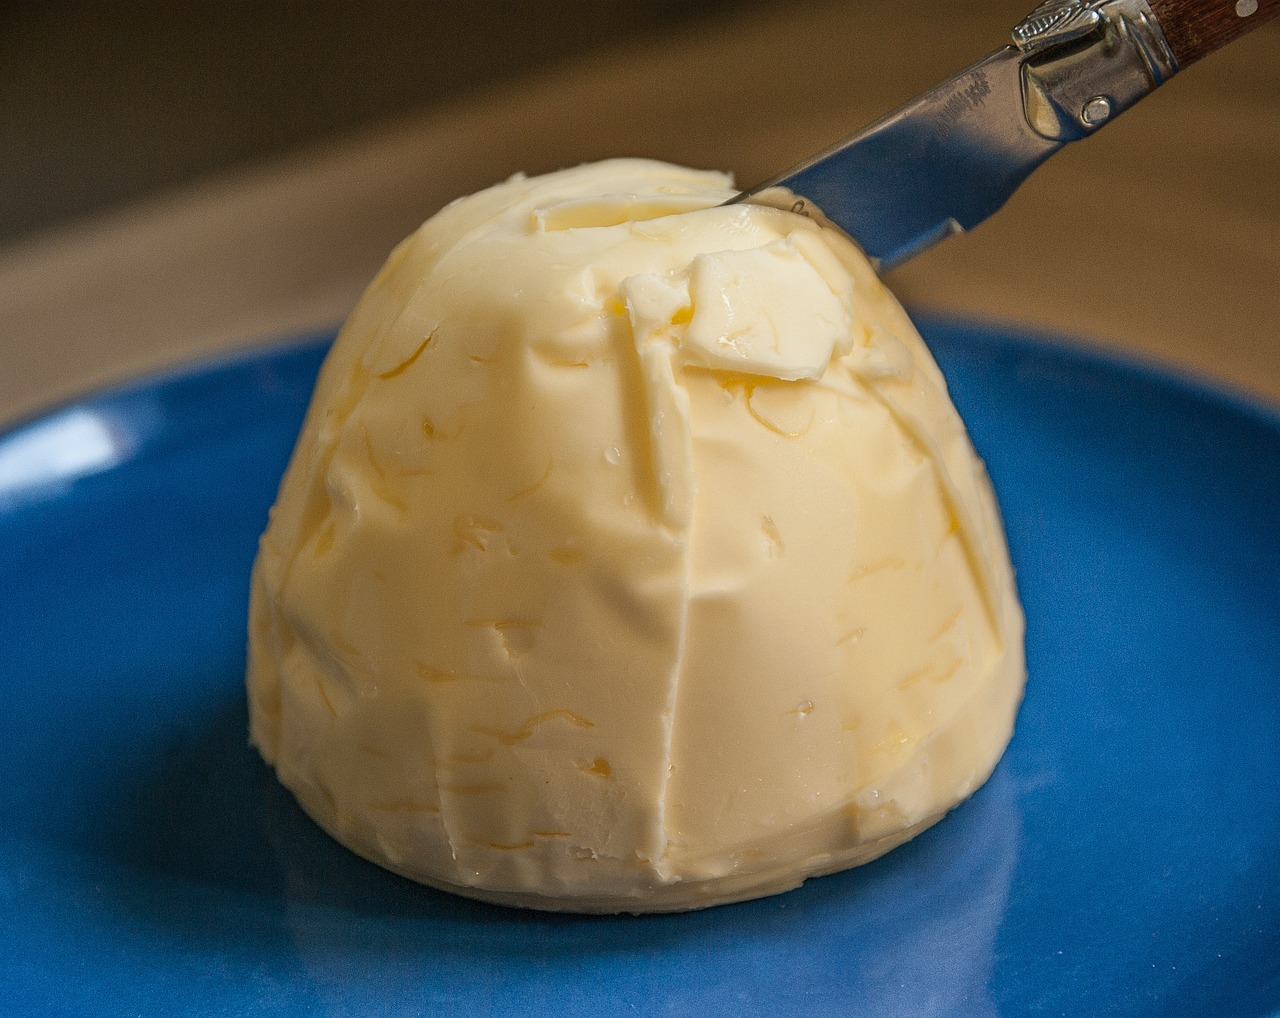knife: (700, 0, 1280, 298)
